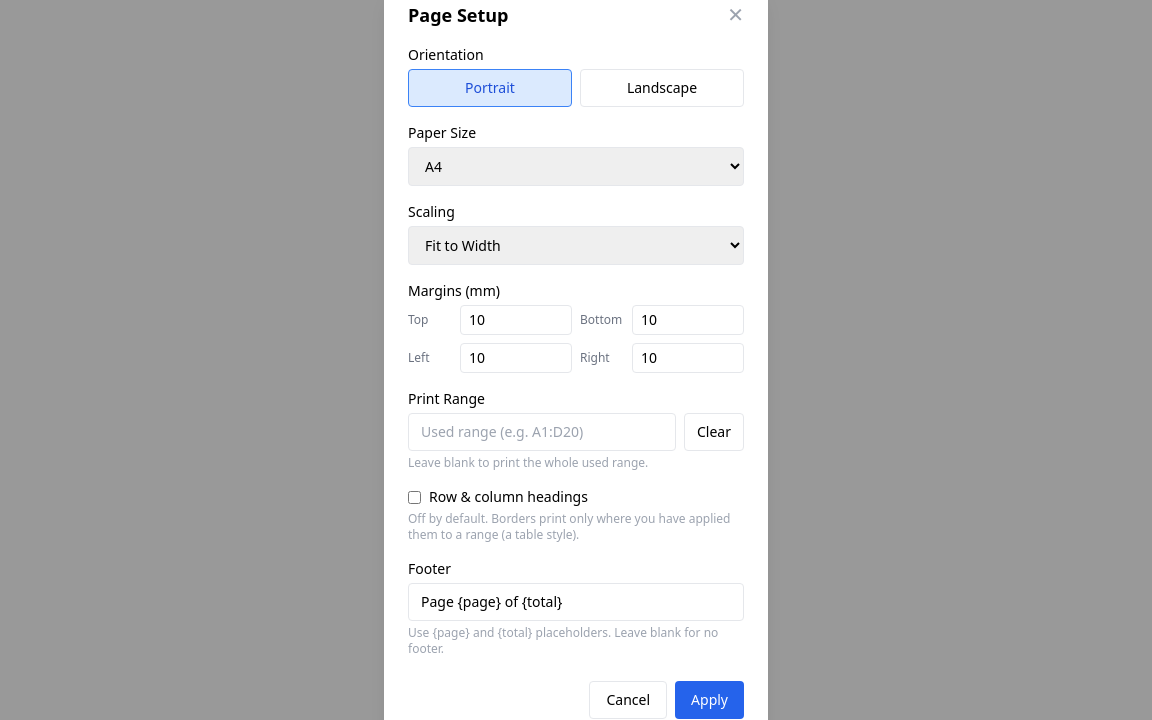
Test: PrintSetupModal › clears the print range back to the used range
The width and height of the screenshot is (1152, 720).
Type "A1:D20" into the field with placeholder "Used range (e.g. A1:D20)". click: (542, 432)
box: [408,413,676,451]
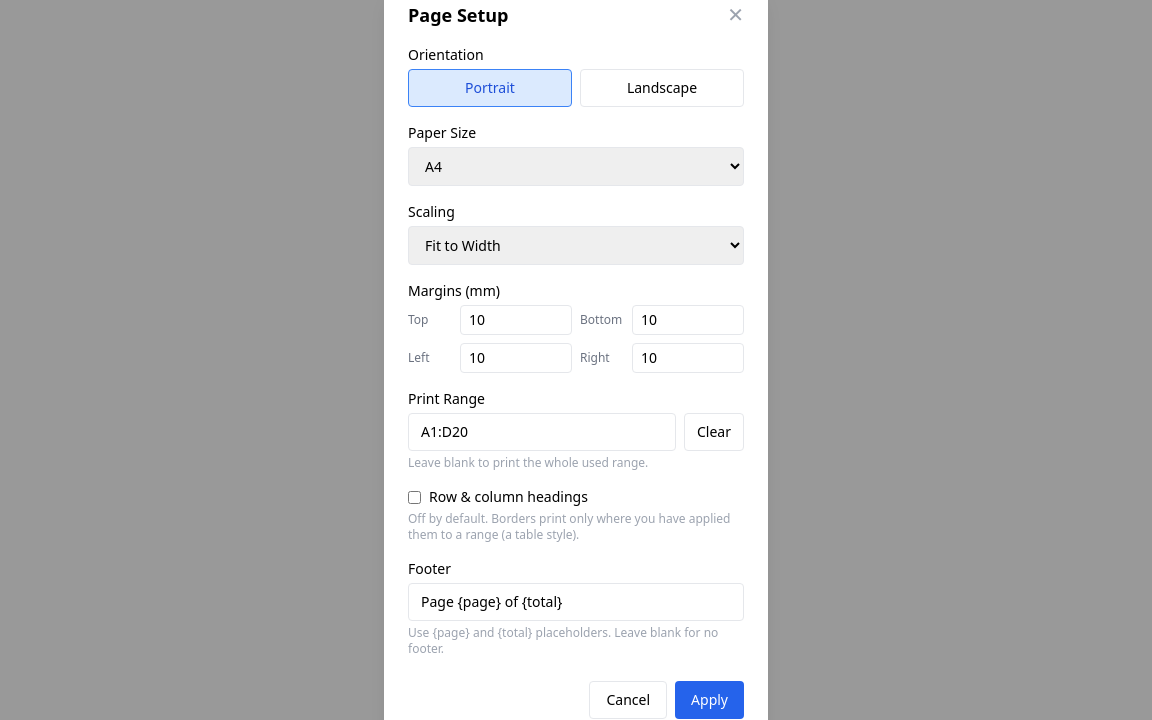
Click the button "Clear". click: click(714, 432)
box: [684,413,744,451]
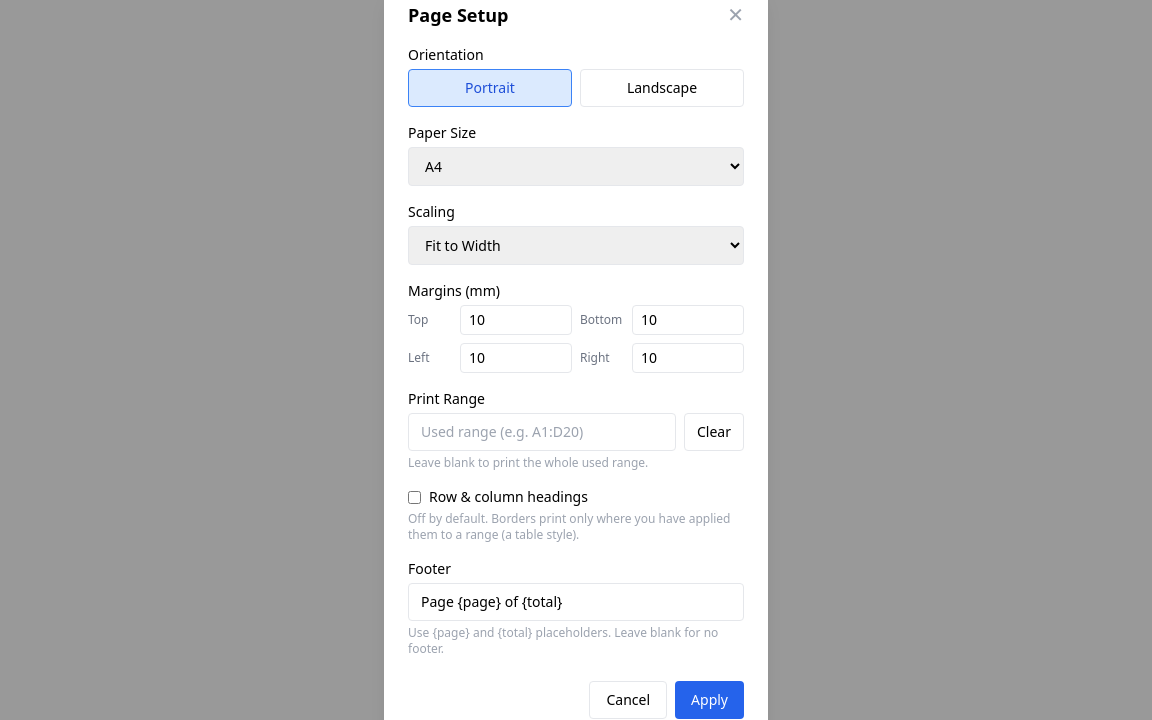
Result: the field with placeholder "Used range (e.g. A1:D20)" is empty at [408,413,676,451]
